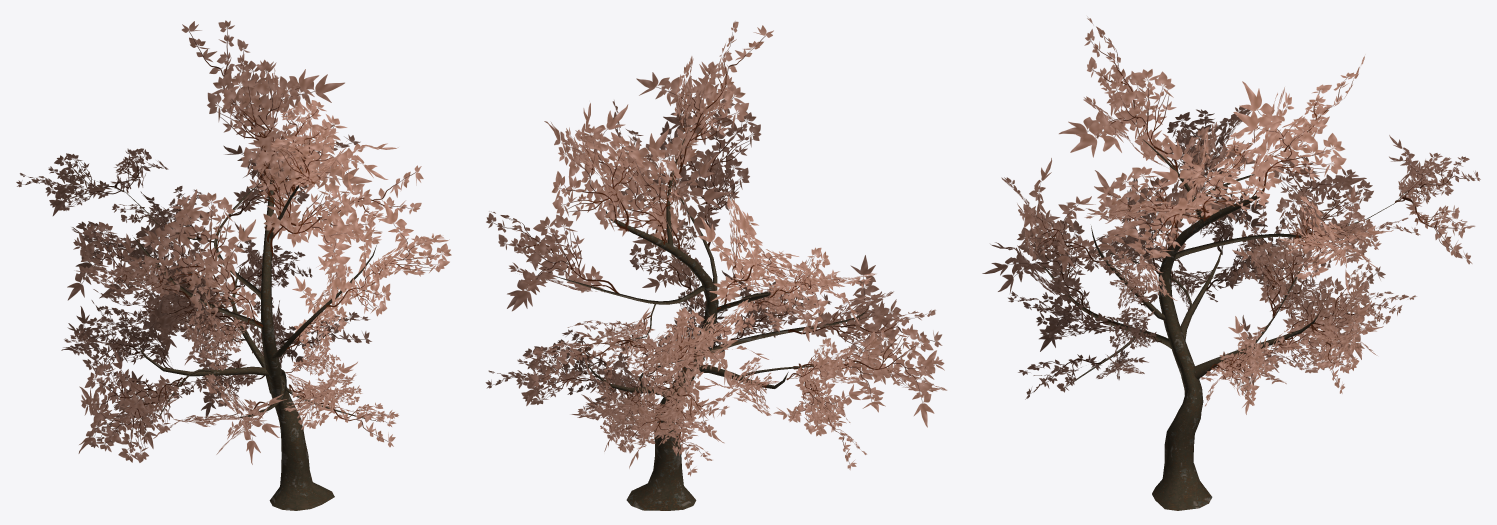
The picture shows the model from 3 angles, left to right: view 1: azimuth 30°, elevation 25°; view 2: azimuth 150°, elevation 25°; view 3: azimuth 270°, elevation 25°; orthographic projection. The views are drawn at different scales.
Parts seen in each view (by area): view 1: Tree_Mesh; view 2: Tree_Mesh; view 3: Tree_Mesh.
Boxes of the visible parts, x1,y1,x2,y2 form: Tree_Mesh: [16, 20, 451, 510]; Tree_Mesh: [485, 21, 947, 510]; Tree_Mesh: [982, 16, 1480, 510].
Size of the model in its own units: 927 by 1076 by 1077.
2 materials, 2 textured.
